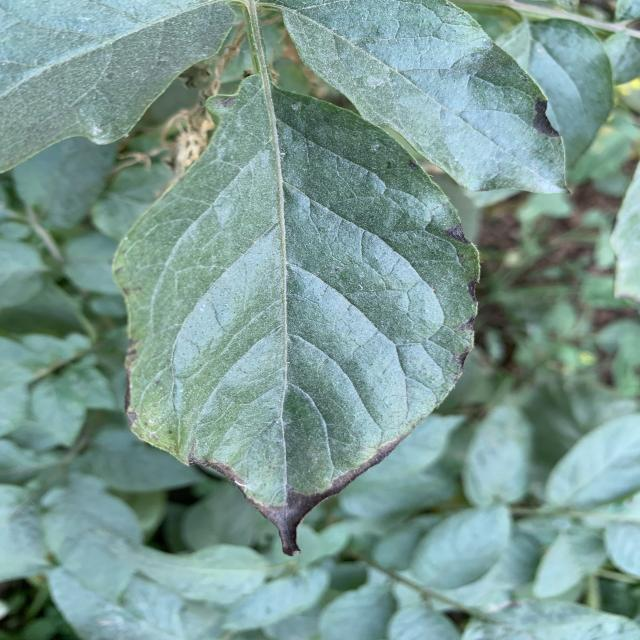lateblight: (195, 431, 408, 555)
